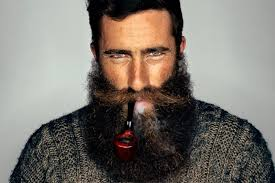b.y: (94, 85, 184, 170)
